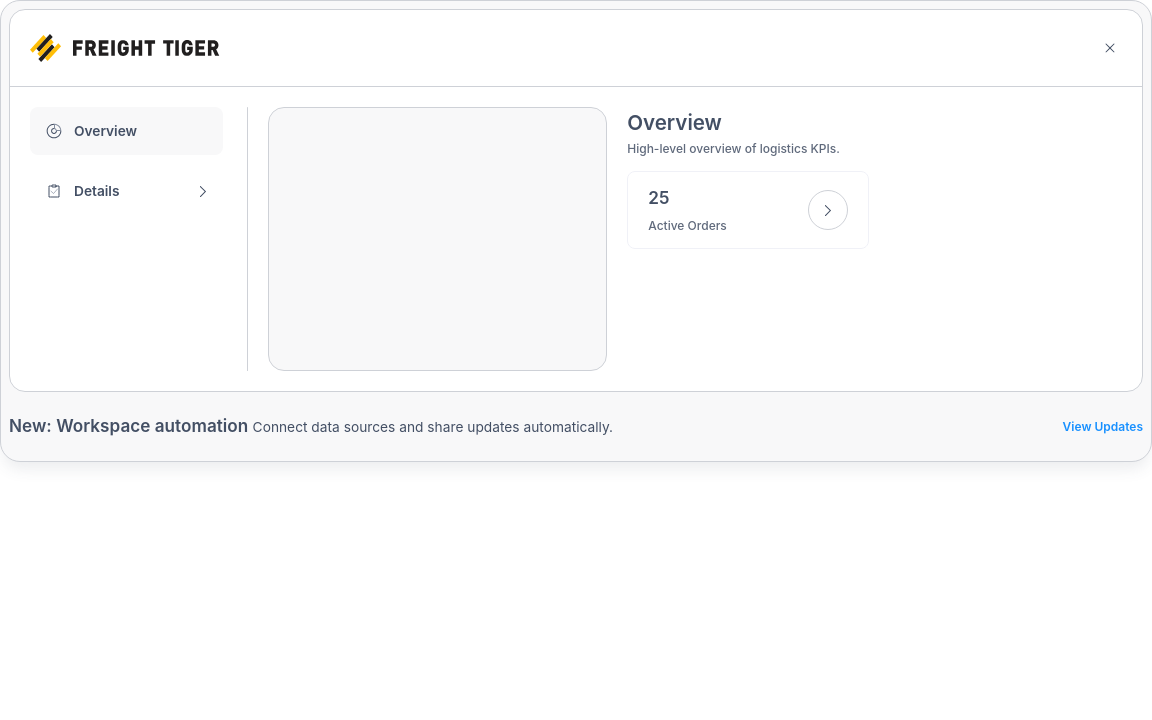
Test: NavigationPopover › switches layout to subcategory panel when section has nested items
Click the button "Details" at (127, 191), box [30,167,223,215]
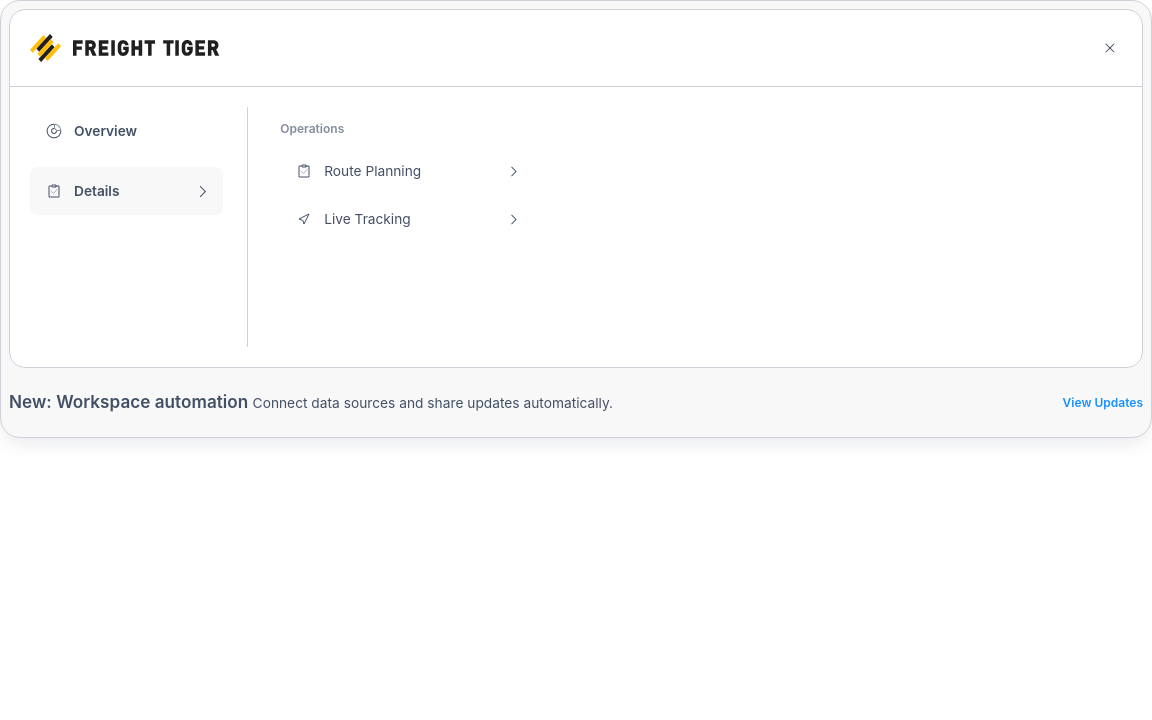
Result: the text "Operations" is shown at [280,121,344,136]
Result: the text "Route Planning" is shown at [324,159,421,183]
